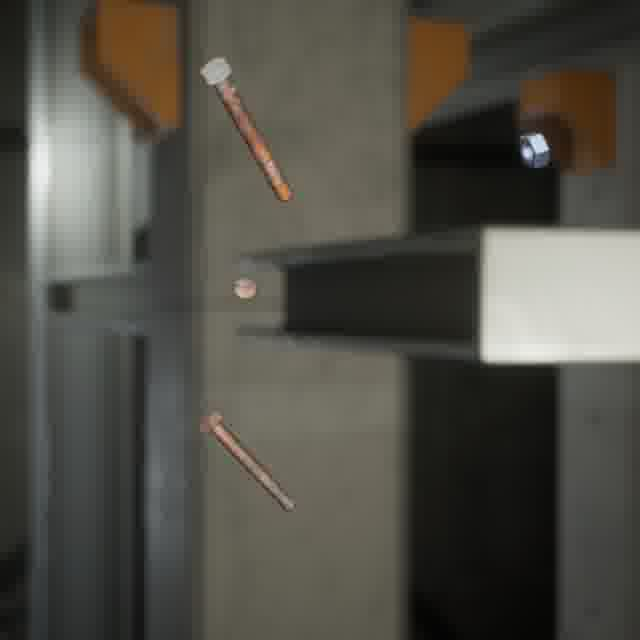bolt: (195, 53, 297, 206), (191, 402, 300, 515), (229, 271, 263, 305)
nut: (515, 128, 553, 172)
